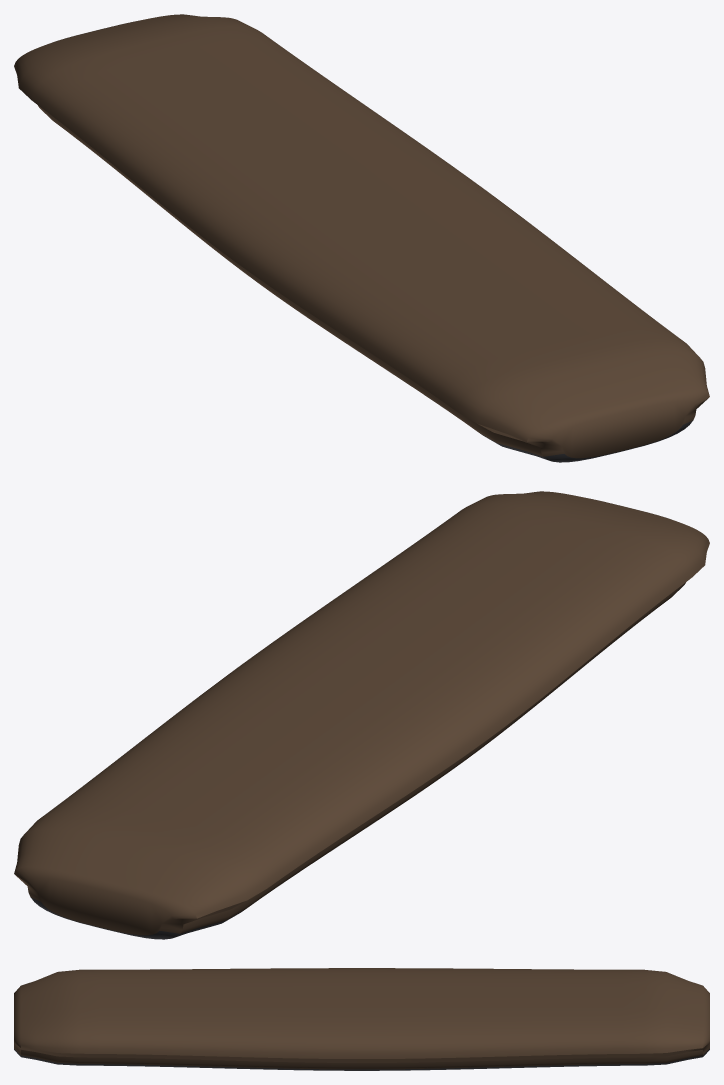
The model's file is bench.glb.
3 renders of one model, top to bottom at view 1: azimuth 30°, elevation 25°; view 2: azimuth 150°, elevation 25°; view 3: azimuth 270°, elevation 25°, orthographic. The views are drawn at different scales.
Parts seen in each view (by area): view 1: lod0; view 2: lod0; view 3: lod0.
Part boxes in pixels (x1=…): lod0: x1=14, y1=14, x2=709, y2=462; lod0: x1=14, y1=491, x2=709, y2=939; lod0: x1=14, y1=968, x2=709, y2=1070.
Size of what is drawn, in the model's own units: 0.2792 by 0.08 by 1.
